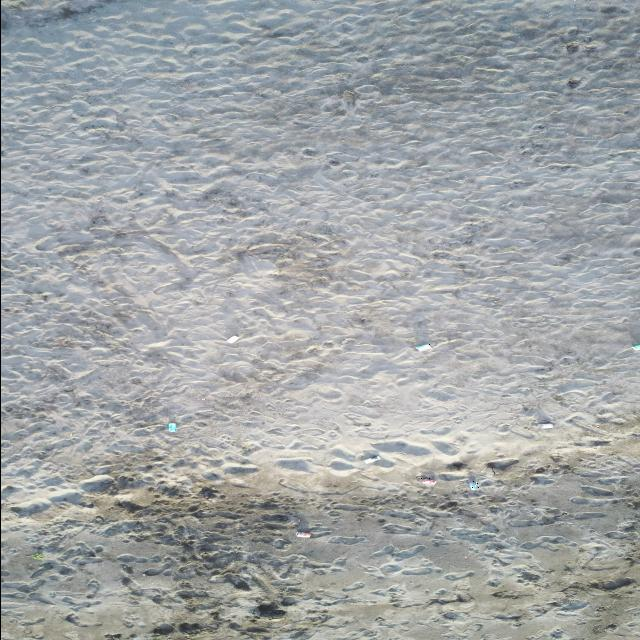Garbage: (486, 457, 517, 471), (256, 603, 284, 617), (416, 473, 435, 483), (364, 455, 380, 463), (416, 343, 432, 351), (298, 529, 311, 536), (226, 336, 239, 343), (467, 479, 477, 488), (537, 422, 552, 427), (168, 422, 176, 431), (33, 552, 43, 559), (632, 344, 639, 350)
